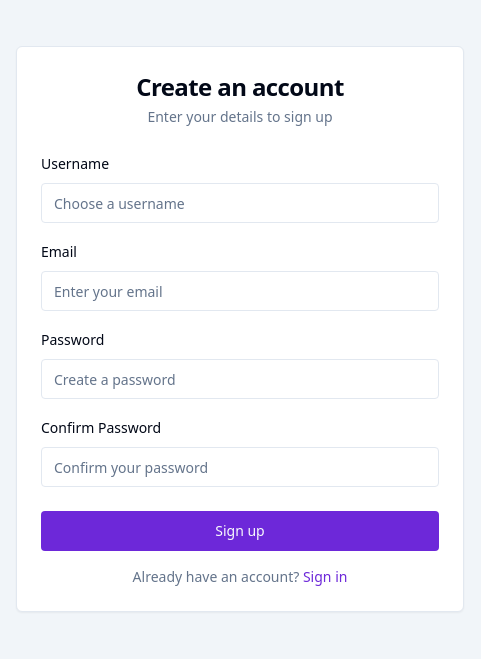
Test: Signup › shows error message when signup fails
Type "existinguser" into the field labelled "Username" at (240, 203), box [41,183,439,223]
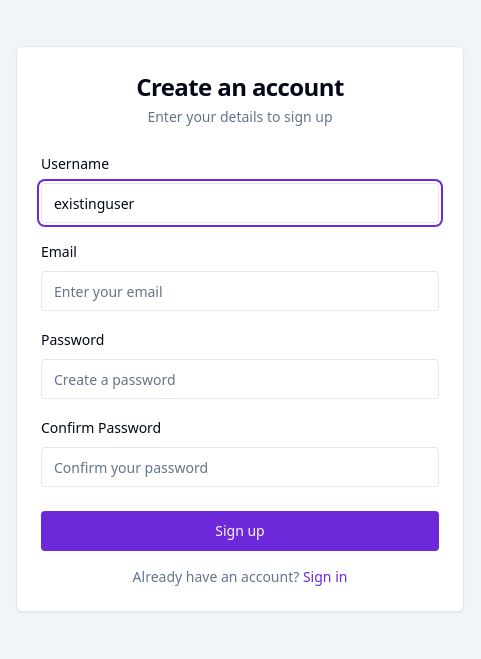
Type "existing@example.com" into the field labelled "Email" at (240, 291), box [41,271,439,311]
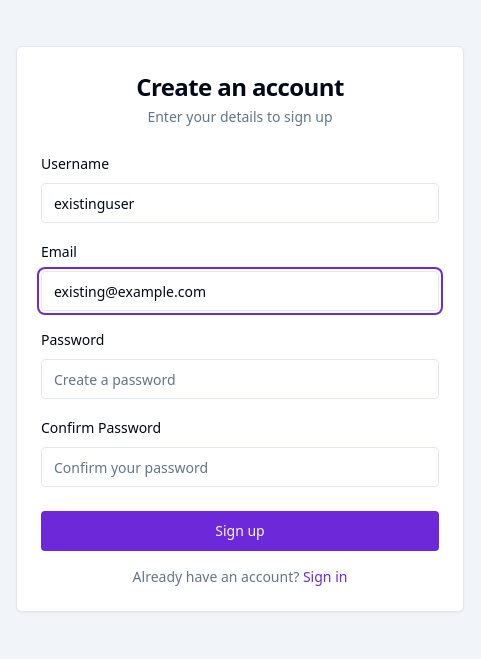
Type "password123" into the password field labelled "Password" at (240, 379), box [41,359,439,399]
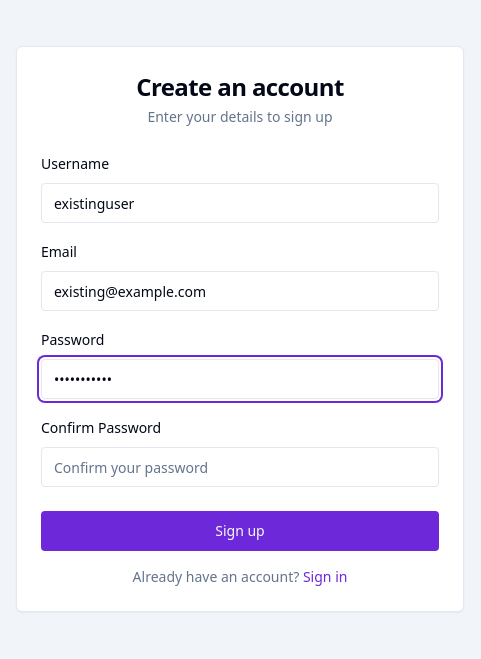
Type "password123" into the password field labelled "Confirm Password" at (240, 467), box [41,447,439,487]
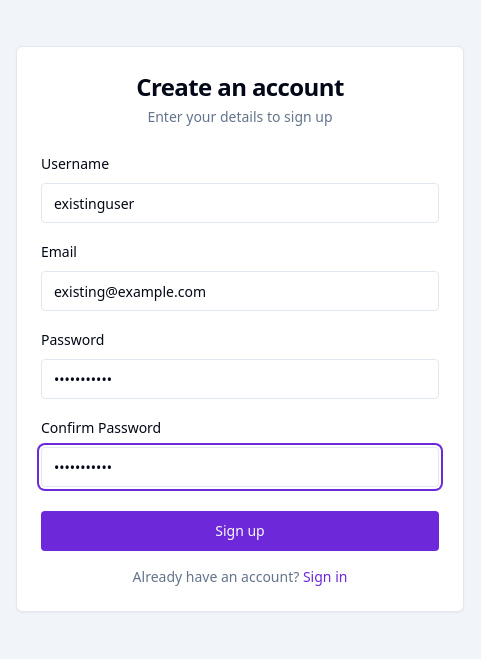
Click the button "Sign up" at (240, 531), box [41,511,439,551]
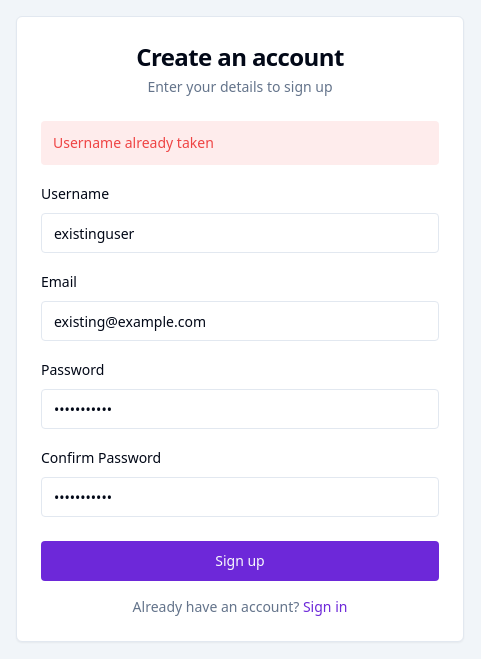
Expected: the text "Username already taken" is shown, [41,121,439,165]
